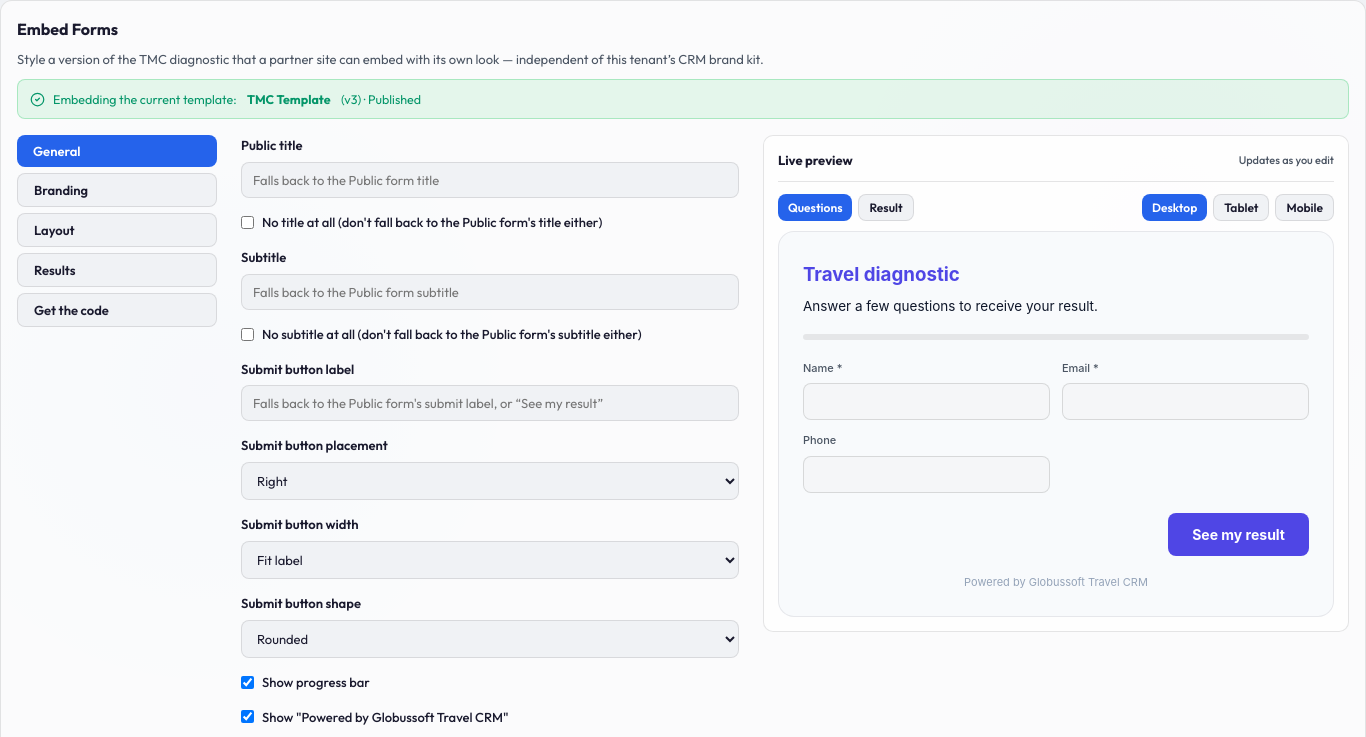
Scenario: DiagnosticEmbedFormsPanel — preview parity with the real widget (2026-09-08) › the Result preview does not apply an embed-only recommendation cap
The width and height of the screenshot is (1366, 737).
Check: the text "TMC Template" is shown, box [244, 89, 333, 109]
What coordinates should you click on to do the following:
click the button "Get the code"
I would click on:
 (117, 310)
Its box is [17, 293, 217, 327].
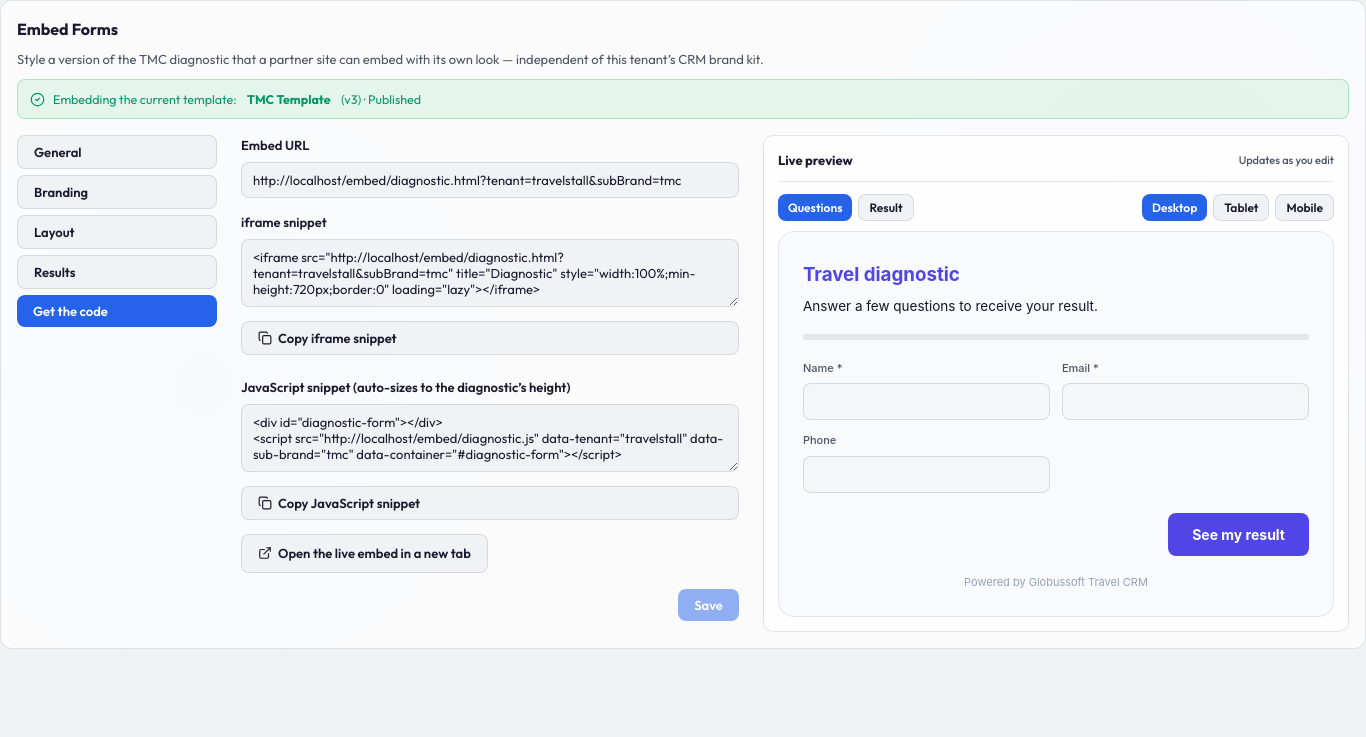
What coordinates should you click on to do the following:
click the button "Result"
I would click on:
 (886, 208)
Its box is [858, 194, 914, 221].
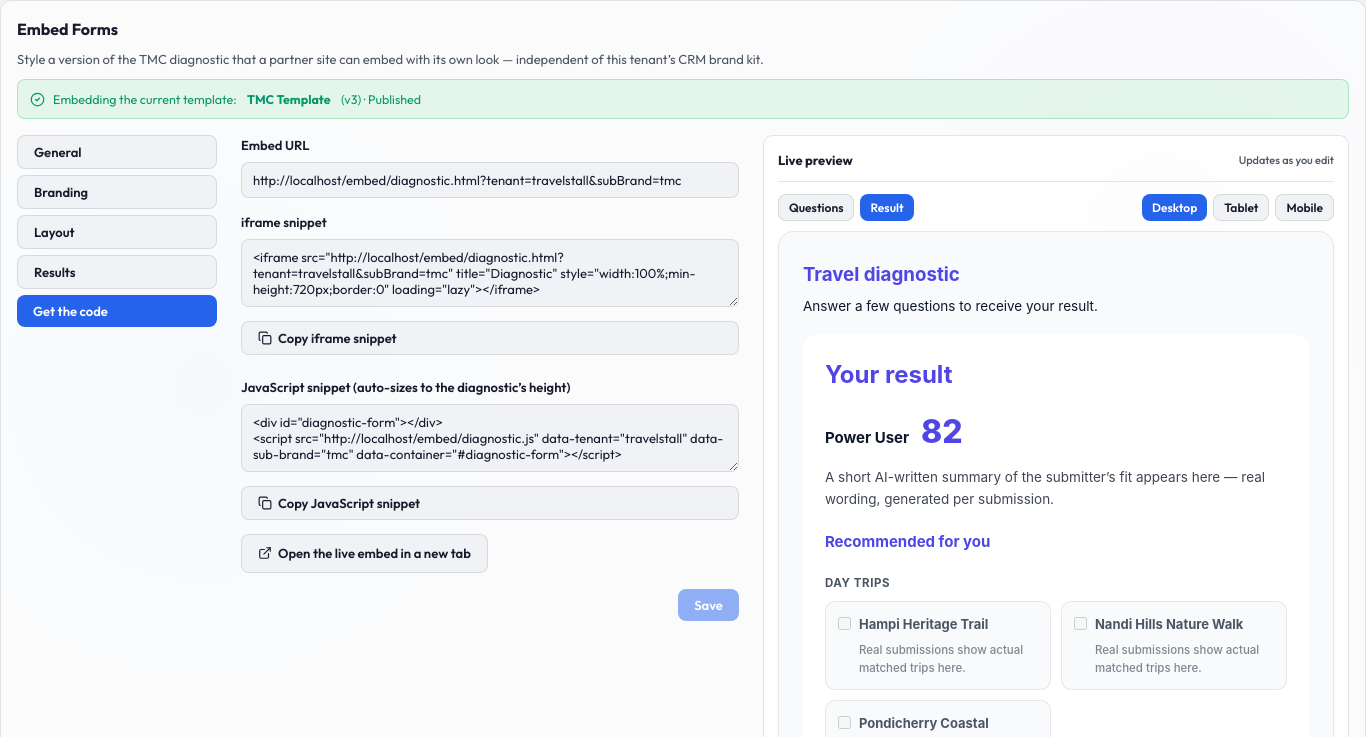
Check: the heading "Day trips" is shown, box [825, 576, 890, 590]
